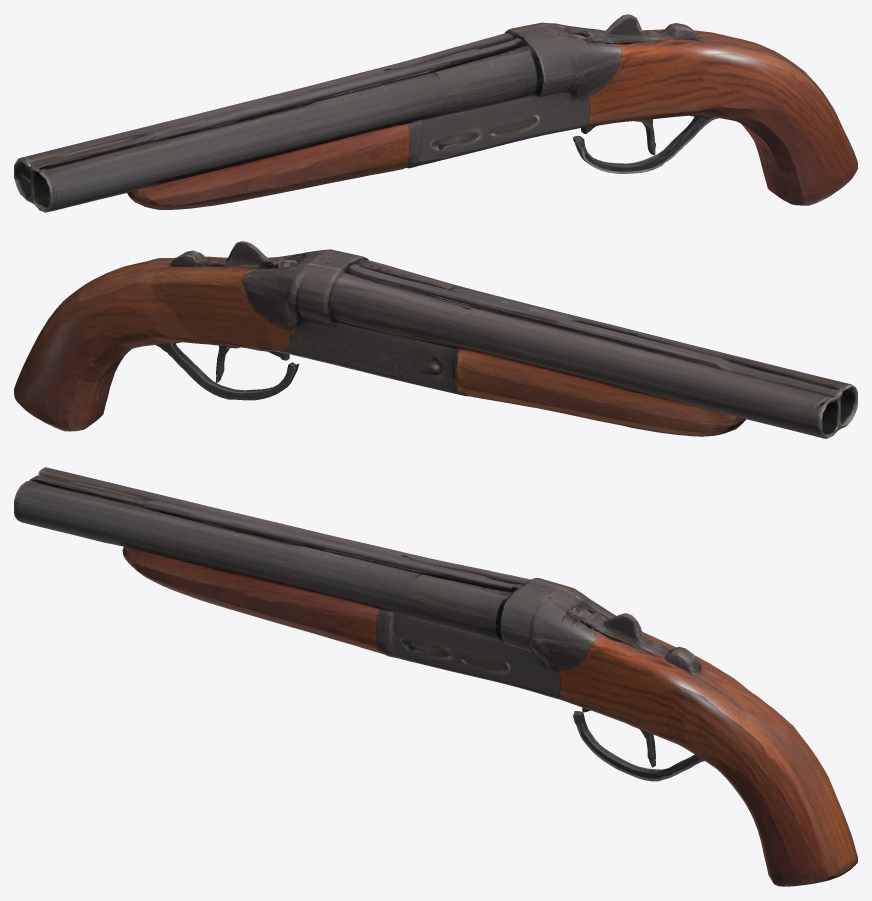
File: шут_0530163229_texture.fbx
The picture shows the model from 3 angles, top to bottom: view 1: azimuth 30°, elevation 25°; view 2: azimuth 150°, elevation 25°; view 3: azimuth 330°, elevation 25°; orthographic projection.
Parts seen in each view (by area): view 1: temp; view 2: temp; view 3: temp.
Boxes of the visible parts, left/top/right/bottom form: temp: left=14, top=14, right=857, bottom=212; temp: left=14, top=241, right=857, bottom=438; temp: left=14, top=467, right=857, bottom=886.
Size of the model in its own units: 200 by 53.02 by 19.49.
Materials: 1 (1 with a texture image).
